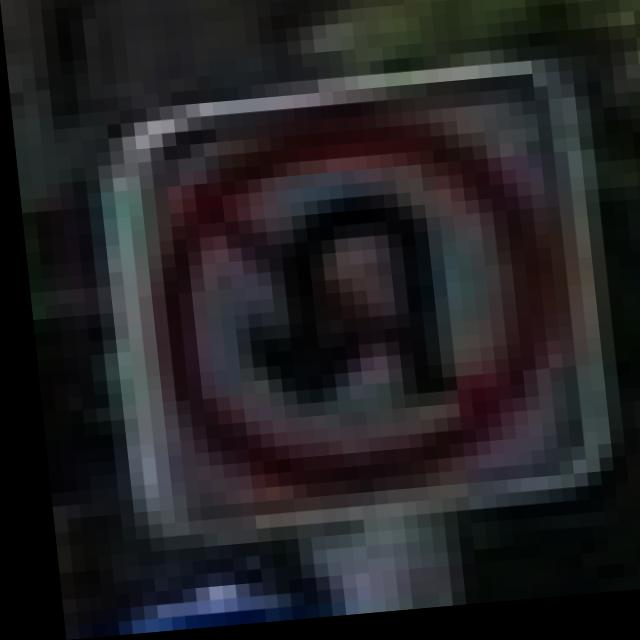U_TURN_PROHIBITED: (83, 53, 612, 548)
